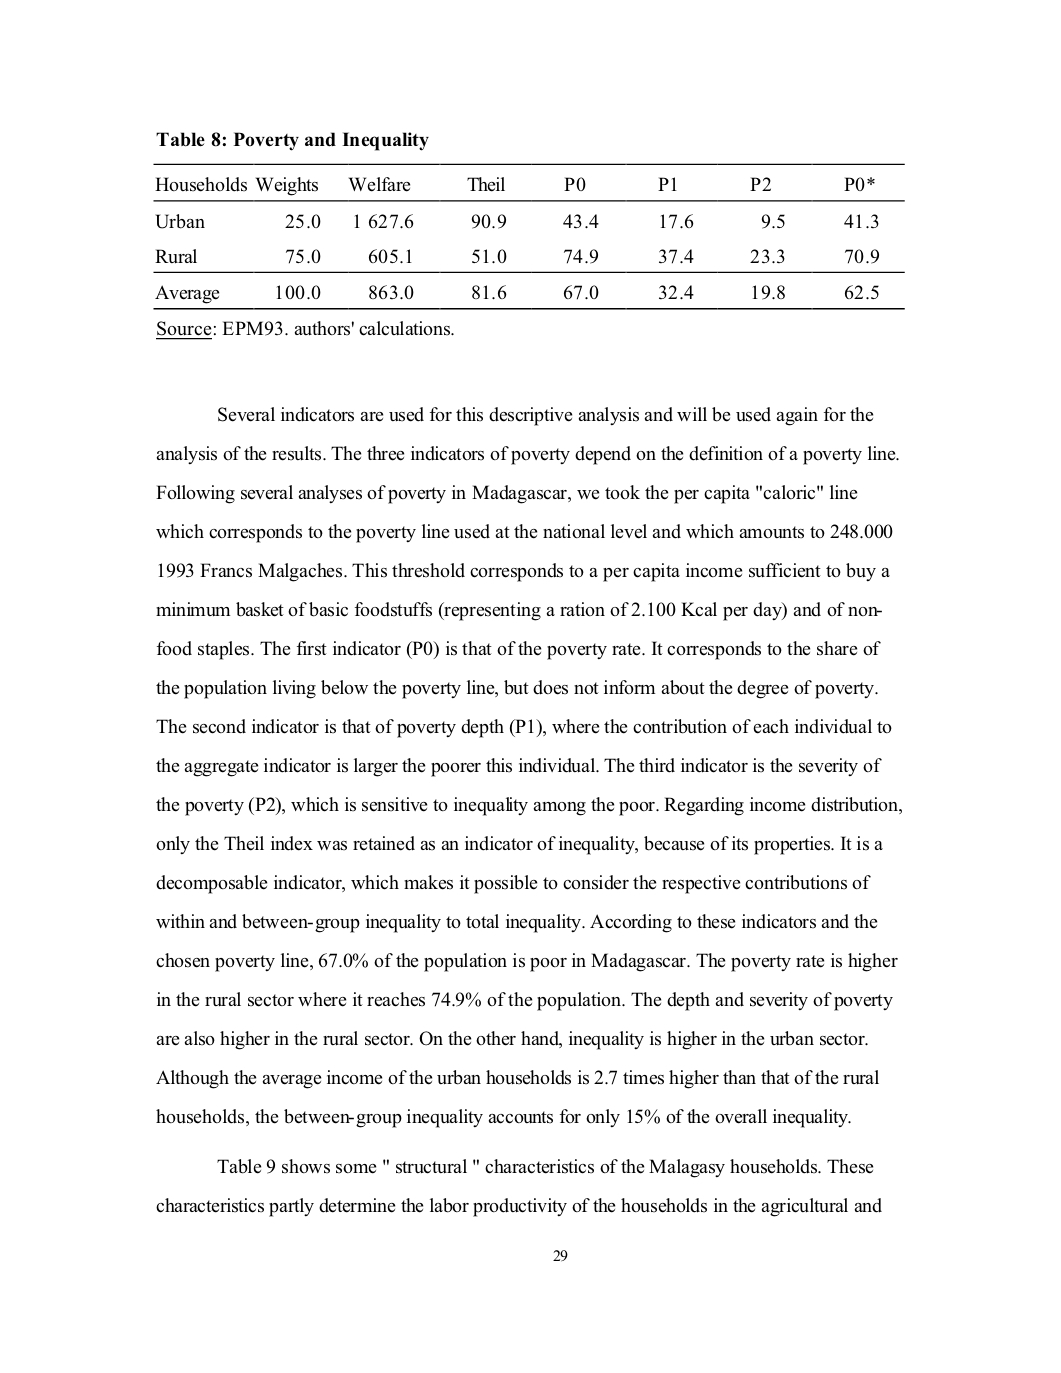Table: (153, 163, 904, 309)
